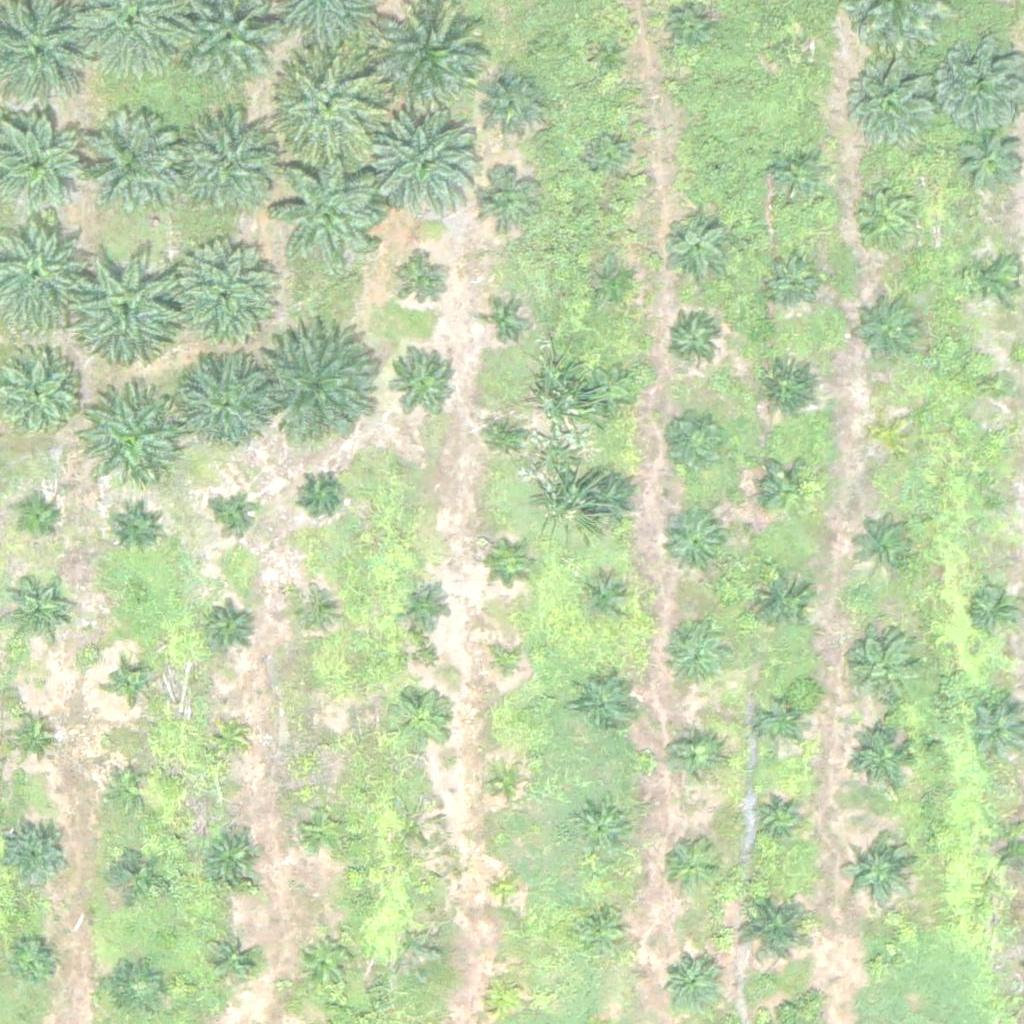Kelapa_Sawit: (372, 6, 497, 132), (66, 245, 191, 371), (262, 326, 387, 451), (274, 153, 387, 266), (163, 239, 276, 352), (371, 113, 483, 226), (275, 48, 387, 161), (72, 389, 184, 502), (173, 350, 273, 451), (179, 115, 279, 216), (78, 114, 178, 215), (851, 64, 938, 152), (732, 885, 819, 973), (840, 836, 915, 912), (654, 406, 729, 482), (386, 342, 461, 417), (658, 834, 721, 897), (663, 627, 726, 690), (661, 951, 724, 1014), (4, 587, 67, 650), (576, 670, 639, 733), (6, 823, 69, 886), (572, 800, 635, 863), (577, 470, 640, 533), (473, 169, 536, 232), (483, 71, 546, 134), (857, 299, 920, 362), (756, 354, 819, 417), (766, 144, 829, 207), (662, 511, 724, 574), (752, 571, 814, 634), (852, 728, 914, 791), (854, 638, 917, 700), (860, 516, 922, 579), (201, 827, 263, 890), (295, 928, 357, 991), (663, 213, 725, 276), (959, 126, 1021, 189), (857, 189, 919, 252), (391, 688, 453, 751), (113, 962, 163, 1013), (581, 574, 631, 625), (111, 844, 161, 895), (400, 259, 450, 310), (965, 249, 1015, 300), (588, 368, 638, 419), (7, 709, 57, 760), (8, 933, 58, 984), (206, 933, 256, 984), (670, 733, 720, 783), (762, 463, 812, 513), (969, 584, 1019, 634), (111, 502, 161, 552), (205, 600, 255, 650), (575, 901, 625, 951), (670, 315, 720, 365), (764, 256, 814, 306), (401, 579, 451, 629), (301, 804, 351, 854), (104, 764, 154, 814), (12, 497, 62, 547), (751, 794, 800, 845), (495, 544, 533, 582), (302, 472, 340, 510), (588, 135, 626, 173), (592, 37, 630, 75), (595, 261, 633, 299), (488, 645, 526, 683), (486, 764, 524, 802), (488, 871, 526, 909), (484, 971, 522, 1009), (210, 718, 248, 756), (113, 663, 151, 701), (219, 498, 256, 536), (778, 31, 816, 68), (761, 703, 798, 741), (674, 11, 711, 49), (296, 596, 333, 634), (308, 725, 345, 763), (486, 306, 523, 343), (490, 416, 527, 453), (983, 486, 1008, 511), (983, 370, 1008, 395), (878, 424, 903, 449), (868, 951, 893, 976), (705, 161, 730, 186)
